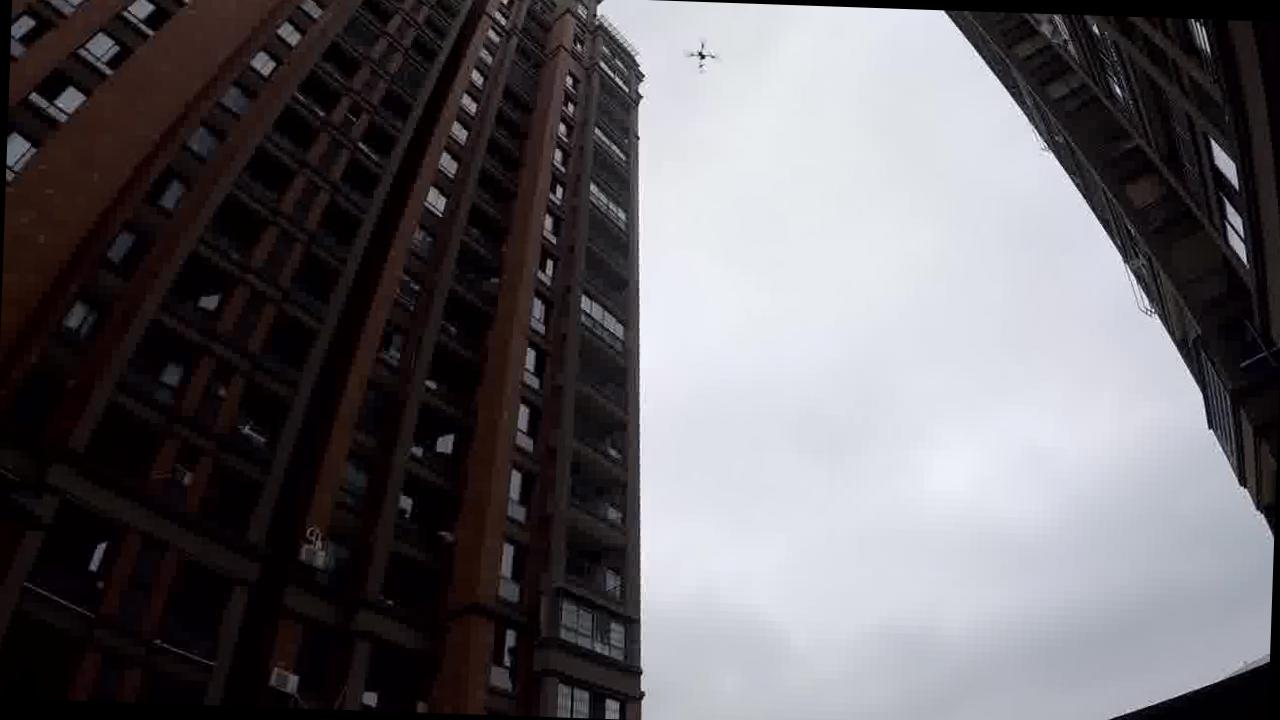drone: (666, 23, 734, 68)
